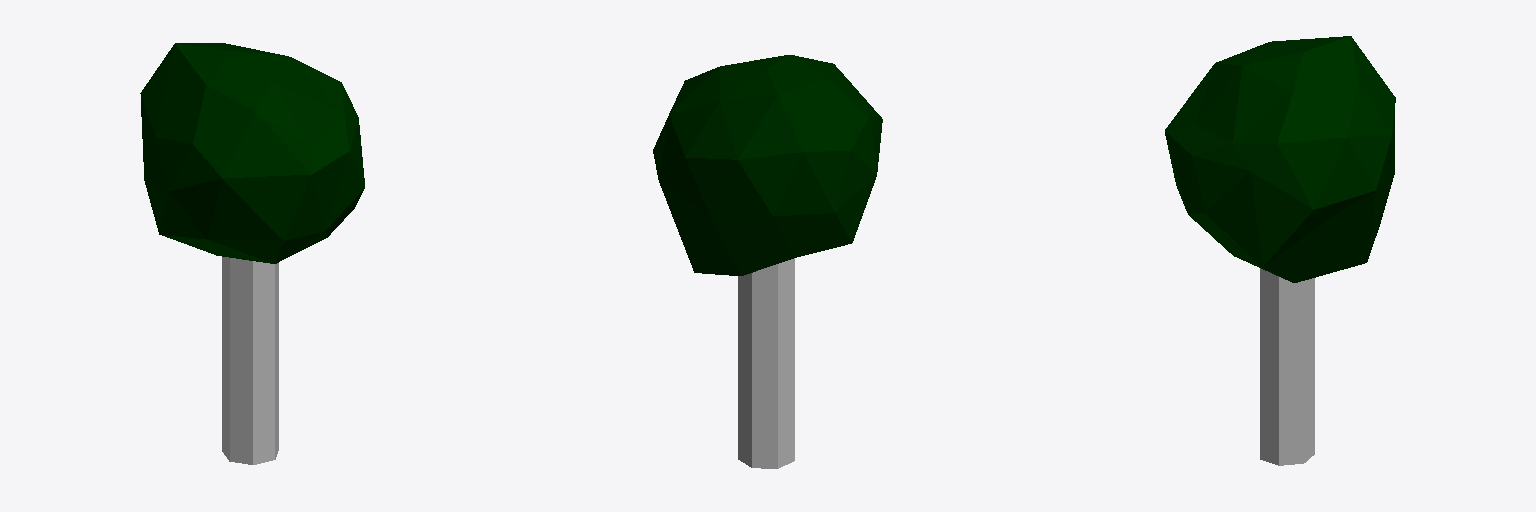
File: tree2.obj
3 views of the same model, side by side, from view 1: azimuth 30°, elevation 25°; view 2: azimuth 150°, elevation 25°; view 3: azimuth 270°, elevation 25° (orthographic).
Visible parts, largest first — view 1: Cone, Cone.001; view 2: Cone, Cone.001; view 3: Cone, Cone.001.
Part boxes in pixels (bbox=[...]): Cone: bbox=[140, 43, 364, 263]; Cone.001: bbox=[222, 257, 278, 464]; Cone: bbox=[653, 55, 882, 275]; Cone.001: bbox=[738, 258, 794, 468]; Cone: bbox=[1165, 36, 1395, 282]; Cone.001: bbox=[1260, 268, 1314, 465].
Size of the model in its own units: 1.58 by 3.05 by 1.61.